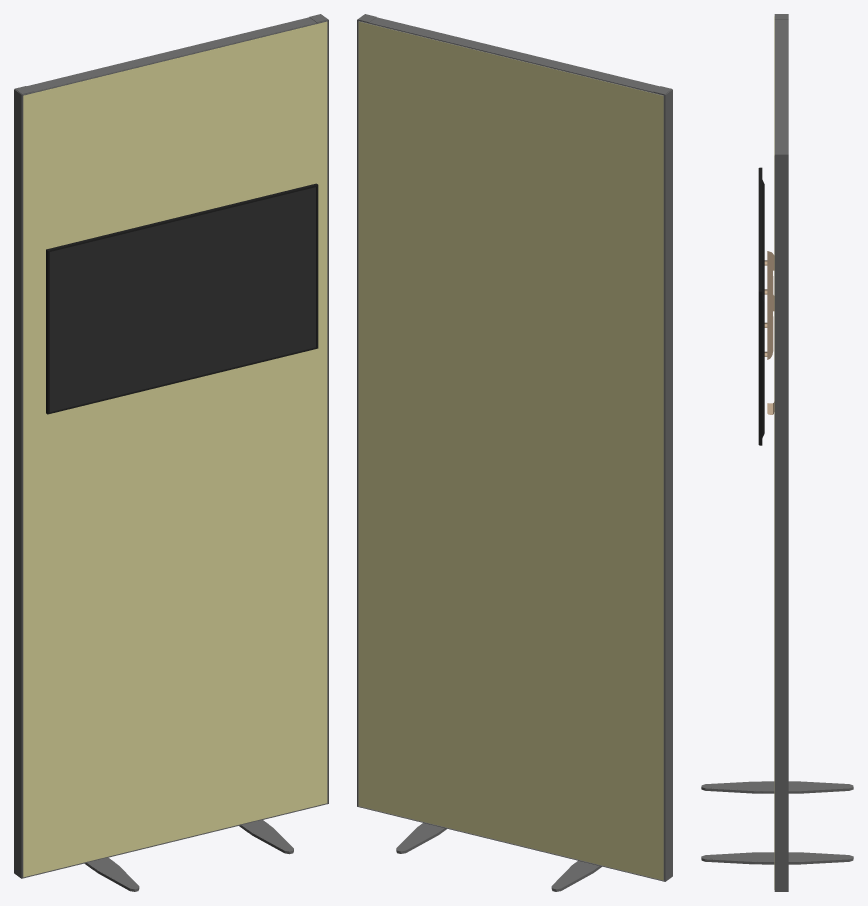
Rendered from Multimedia TV.glb.
3 renders of one model, left to right at view 1: azimuth 30°, elevation 25°; view 2: azimuth 150°, elevation 25°; view 3: azimuth 270°, elevation 25°, orthographic. The views are drawn at different scales.
Visible parts, largest first — view 1: Standard 38.018, TV.002, toggle_feet_center.009; view 2: toggle_back_panel.011, Standard 38.018, toggle_feet_center.009; view 3: Standard 38.018, toggle_feet_center.009, TV.002, Support, toggle_feet_edge.007.
Boxes of the visible parts, box(x1,y1,x2,y2) form: Standard 38.018: box(14, 14, 328, 878); TV.002: box(46, 183, 318, 414); toggle_feet_center.009: box(84, 820, 289, 886); toggle_back_panel.011: box(358, 21, 663, 880); Standard 38.018: box(357, 14, 672, 881); toggle_feet_center.009: box(396, 823, 601, 891); Standard 38.018: box(774, 14, 788, 891); toggle_feet_center.009: box(709, 781, 853, 864); TV.002: box(758, 167, 764, 445); Support: box(764, 251, 774, 414); toggle_feet_edge.007: box(701, 781, 761, 864).
Size of the model in its own units: 0.969 by 2.37 by 0.4418.
Materials: 5 (1 with a texture image).
